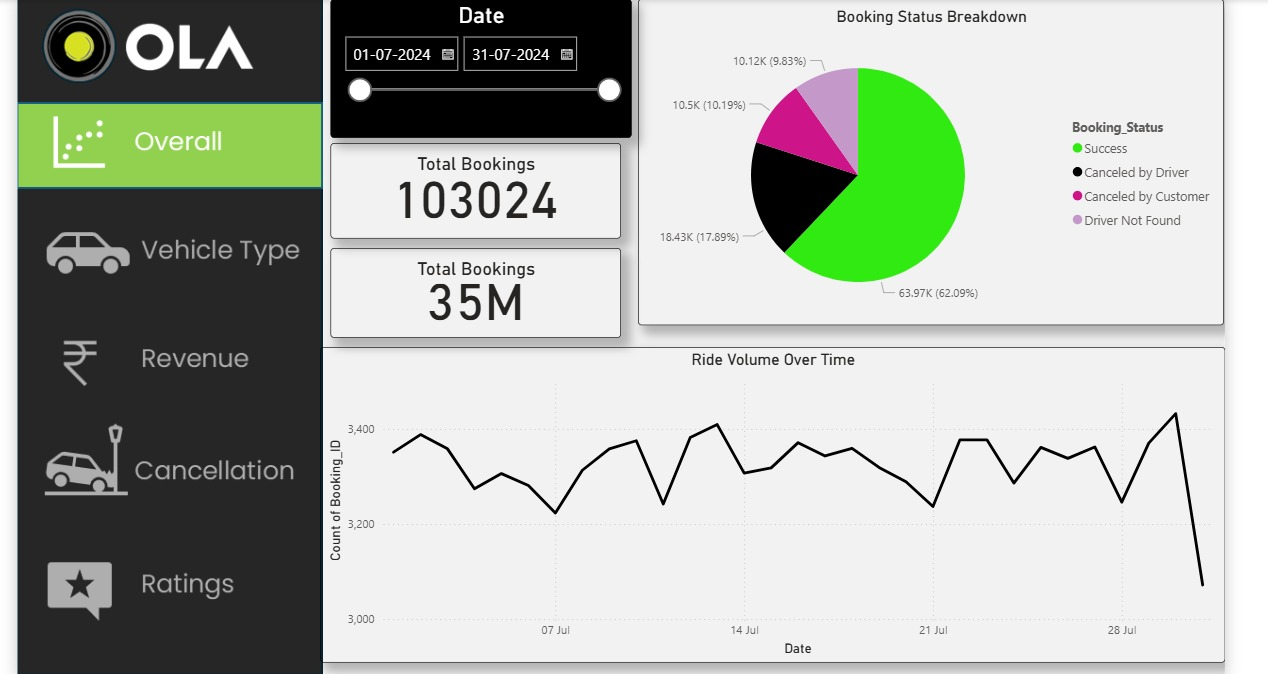

Layout of this report page (visuals, bound fields, positions):
{"tool":"powerbi","page":{"name":"Overall","canvas":[1280,720],"ordinal":0},"visuals":[{"type":"actionButton","box":[0,200.4,321.3,106.6],"z":0},{"type":"actionButton","box":[9.5,210,311.8,106.6],"z":1000},{"type":"actionButton","box":[9.5,316.5,311.8,106.6],"z":2000},{"type":"actionButton","box":[9.5,443.8,311.8,106.6],"z":3000},{"type":"actionButton","box":[4.8,575.8,311.8,106.6],"z":4000},{"type":"lineChart","title":" Ride Volume Over Time","fields":{"Y":["CountNonNull(July.Booking_ID)"],"Category":["July.Date"]},"box":[321.3,369.1,960,334.7],"z":5000},{"type":"pieChart","title":"Booking Status Breakdown","fields":{"Category":["July.Booking_Status"],"Y":["CountNonNull(July.Booking_Status)"]},"box":[657.9,0,621.5,346.1],"z":6000},{"type":"slicer","title":"Date","fields":{"Values":["July.Date"]},"box":[332.8,0,319.4,147.3],"z":7000},{"type":"card","title":"Total Bookings","fields":{"Values":["Count(July.Booking_ID)"]},"box":[332.8,153,307.9,101.4],"z":8000},{"type":"card","title":"Total Bookings","fields":{"Values":["Sum(July.Booking_Value)"]},"box":[332.8,263.9,307.9,95.6],"z":9000}]}

Visuals, with their boxes on the page's 1280x720 design canvas (x1, y1, x2, y2). These are canvas units, not pixel positions in the 1268x674 screenshot, which may show the page scaled, cropped or inside an application window:
actionButton: l=0, t=200, r=321, b=307
actionButton: l=10, t=210, r=321, b=317
actionButton: l=10, t=316, r=321, b=423
actionButton: l=10, t=444, r=321, b=550
actionButton: l=5, t=576, r=317, b=682
" Ride Volume Over Time" lineChart: l=321, t=369, r=1281, b=704
"Booking Status Breakdown" pieChart: l=658, t=0, r=1279, b=346
"Date" slicer: l=333, t=0, r=652, b=147
"Total Bookings" card: l=333, t=153, r=641, b=254
"Total Bookings" card: l=333, t=264, r=641, b=360
